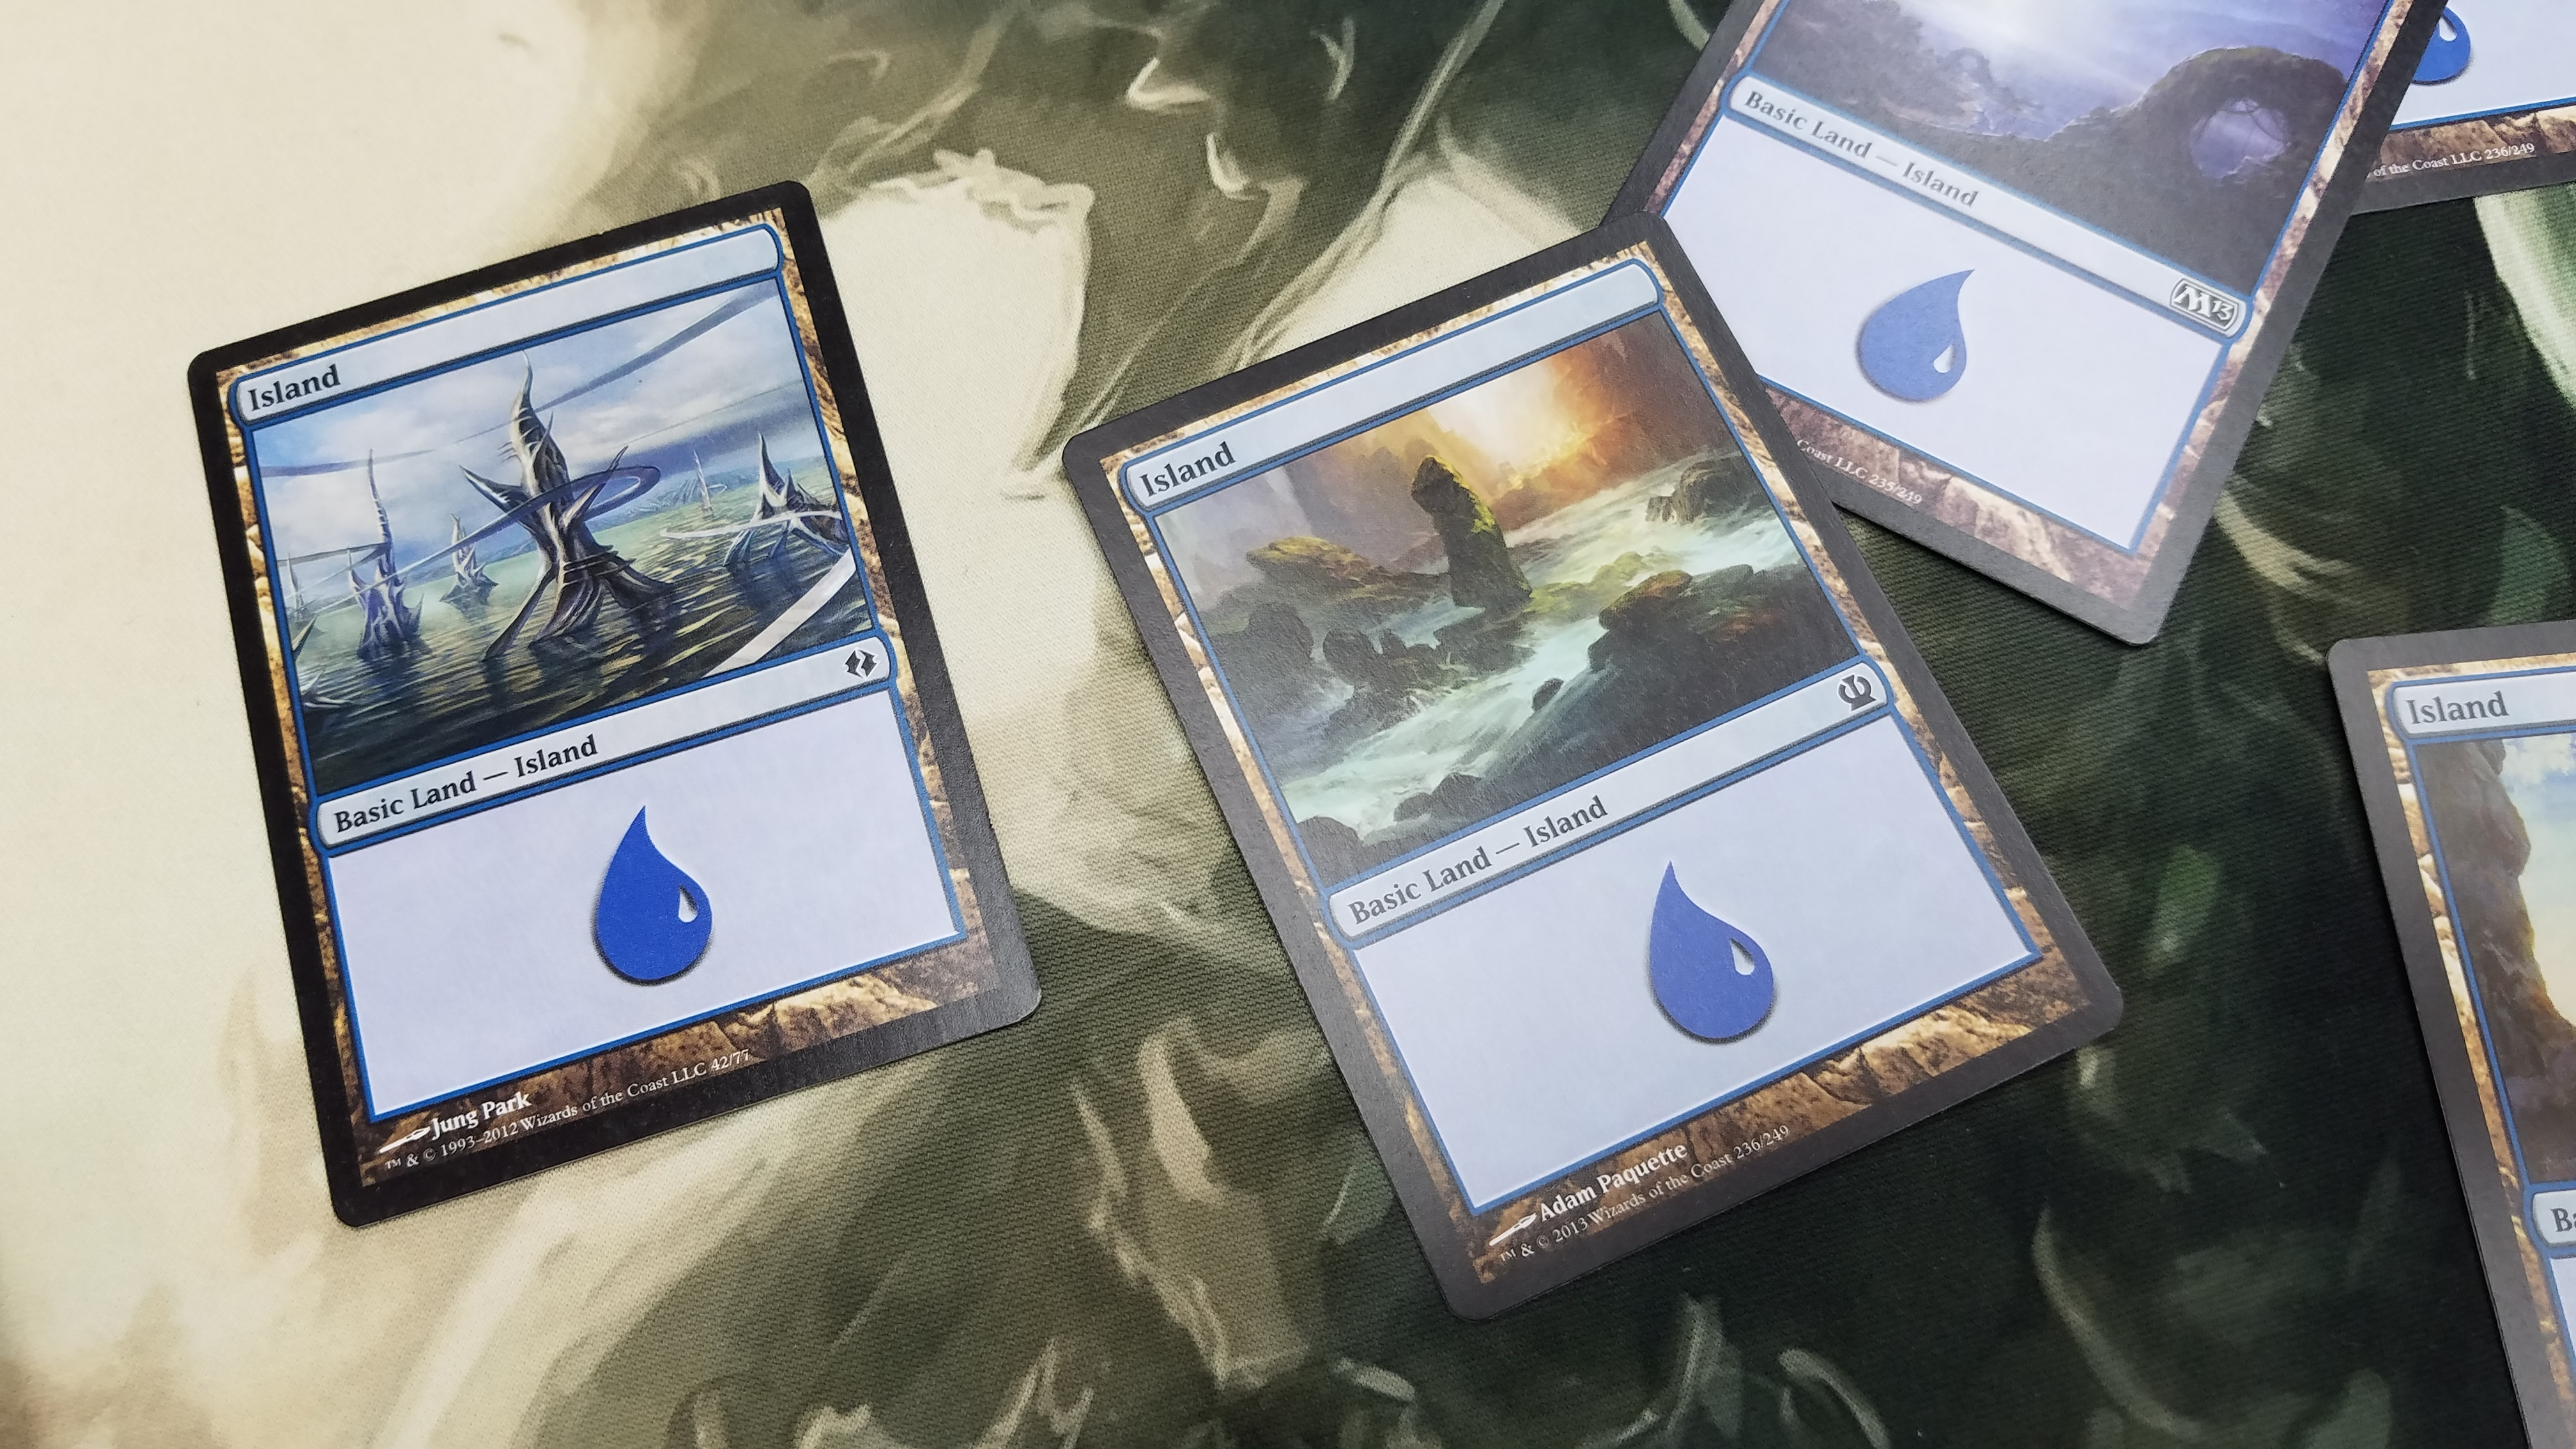Card: (1046, 205, 2139, 1330), (180, 180, 1062, 1240), (2314, 605, 2572, 1449)
